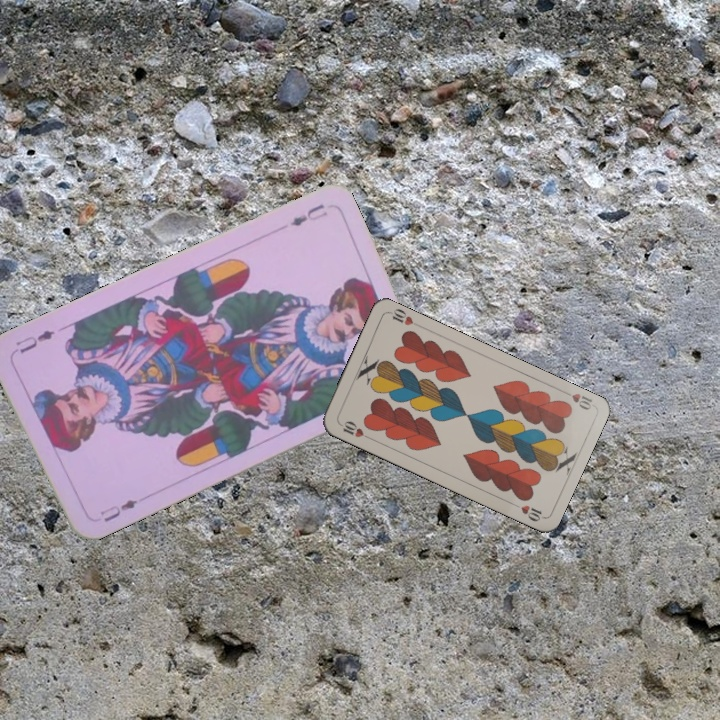EU: (286, 199, 331, 229), (96, 495, 140, 525)
H10: (558, 386, 595, 413), (335, 417, 373, 442)
